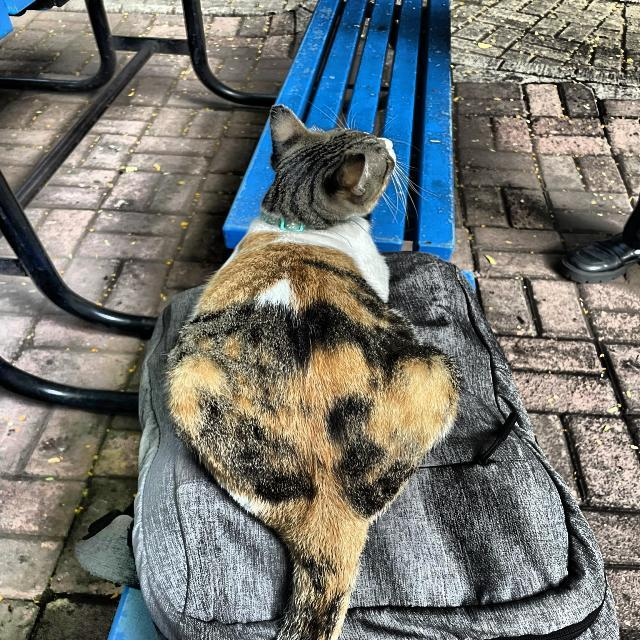Healthy skin: (196, 388, 403, 482), (250, 232, 375, 362), (268, 110, 376, 212)
